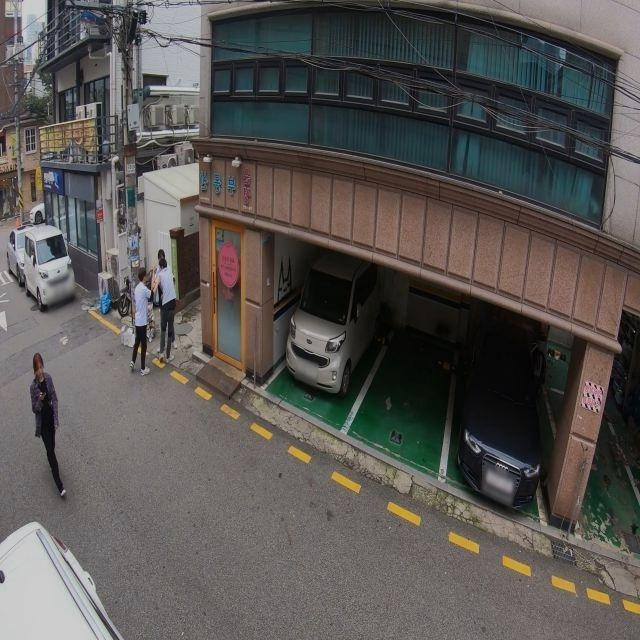fight: (150, 247, 177, 367)
non-fight: (28, 350, 67, 499)
